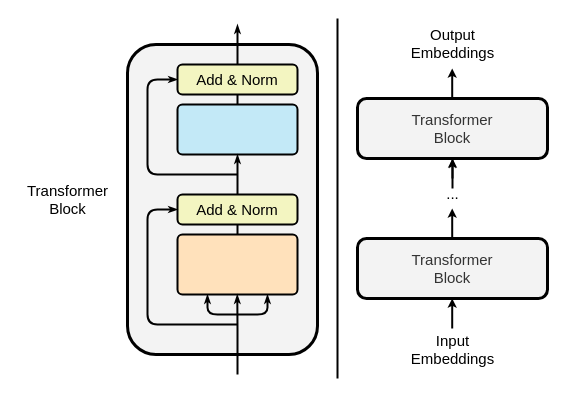
The diagram is 566 pixels wide and 397 high, and some of its shapes have lost their labels. Here are the shapes that lost their labels. From the top down, the box of each, then its label:
(176, 103, 298, 155): Feed Forward
(176, 233, 298, 295): Attention Function
